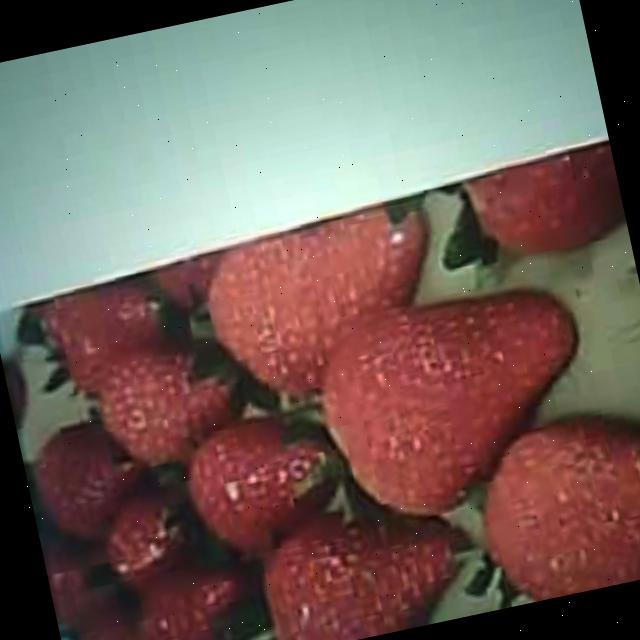strawberry: (305, 267, 601, 525), (200, 196, 450, 400), (462, 407, 640, 609), (250, 494, 477, 640), (180, 406, 343, 548), (90, 333, 250, 473)
